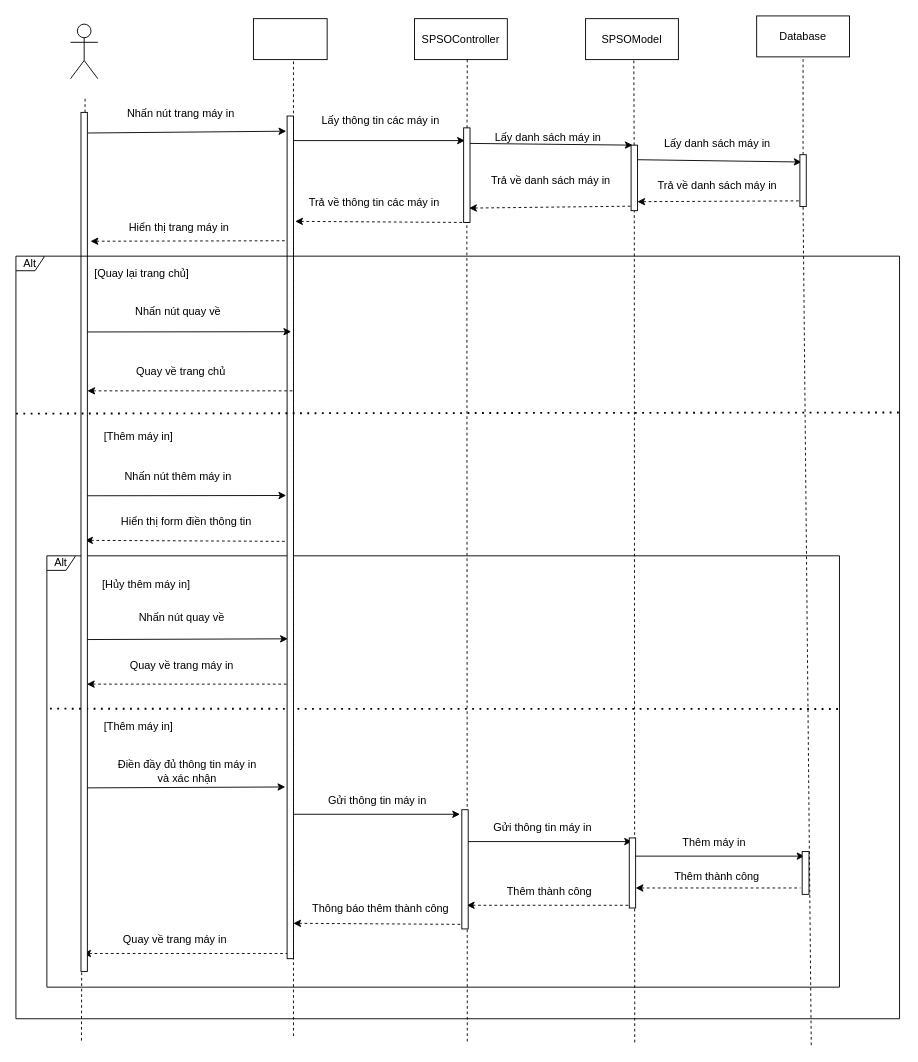
The diagram is 918 pixels wide and 1062 high, and some of its shapes have lost their labels. Each missing label, with the centre of its shape:
"SPSO" belongs at (84,51).
"SPSOView" belongs at (290,39).
